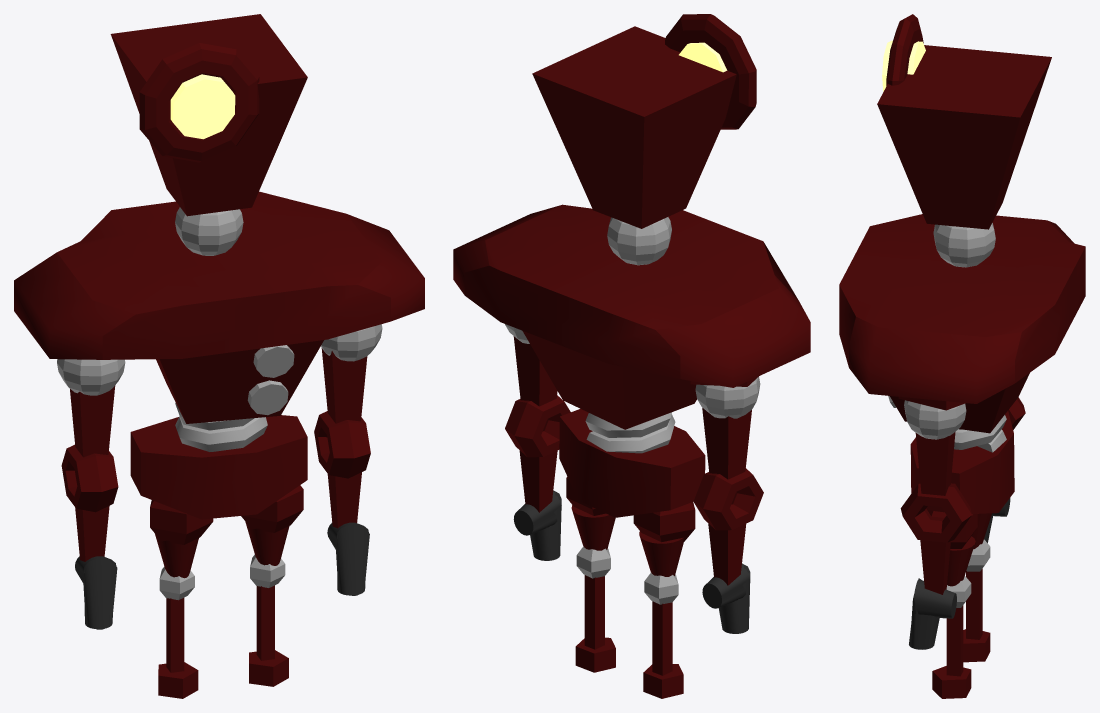
File: Robot.fbx
3 renders of one model, left to right at view 1: azimuth 30°, elevation 25°; view 2: azimuth 150°, elevation 25°; view 3: azimuth 270°, elevation 25°, orthographic. The views are drawn at different scales.
Visible parts, largest first — view 1: pCube4, pCube6, pCube1, pTorus5, pCube3, pCylinder31, pTorus3, pTorus4, pCube9, pSphere7, pCube7, pHelix1 (+18 smaller); view 2: pCube4, pCube6, pCube1, pCube3, pTorus5, pTorus3, pTorus4, pCube7, pHelix1, pSphere7, pSphere5, pCube9 (+16 smaller); view 3: pCube4, pCube6, pCube1, pTorus4, pSphere7, pCube9, pCube3, pSphere6, pTorus5, pCube10, pCylinder29, pCube5 (+12 smaller).
Part boxes in pixels (left/top/right/bottom): pCube4: left=14, top=191, right=424, bottom=359; pCube6: left=110, top=14, right=307, bottom=216; pCube1: left=130, top=415, right=307, bottom=519; pTorus5: left=139, top=43, right=259, bottom=162; pCube3: left=156, top=340, right=323, bottom=423; pCylinder31: left=170, top=74, right=235, bottom=139; pTorus3: left=61, top=444, right=118, bottom=512; pTorus4: left=314, top=411, right=370, bottom=478; pCube9: left=321, top=348, right=367, bottom=423; pSphere7: left=175, top=207, right=243, bottom=255; pCube7: left=70, top=385, right=115, bottom=457; pHelix1: left=175, top=402, right=267, bottom=451; pCube4: left=453, top=204, right=810, bottom=387; pCube6: left=532, top=26, right=736, bottom=228; pCube1: left=559, top=409, right=705, bottom=517; pCube3: left=522, top=331, right=696, bottom=429; pTorus5: left=665, top=14, right=756, bottom=129; pTorus3: left=693, top=468, right=763, bottom=530; pTorus4: left=505, top=395, right=570, bottom=457; pCube7: left=702, top=408, right=751, bottom=479; pHelix1: left=585, top=412, right=675, bottom=453; pSphere7: left=607, top=217, right=671, bottom=265; pSphere5: left=695, top=377, right=760, bottom=418; pCube9: left=513, top=336, right=557, bottom=406; pCube4: left=839, top=214, right=1085, bottom=403; pCube6: left=877, top=45, right=1051, bottom=229; pCube1: left=910, top=411, right=1014, bottom=513; pTorus4: left=900, top=483, right=971, bottom=542; pSphere7: left=933, top=223, right=995, bottom=267; pCube9: left=915, top=432, right=955, bottom=507; pCube3: left=890, top=373, right=1029, bottom=433; pSphere6: left=904, top=400, right=966, bottom=439; pTorus5: left=886, top=14, right=923, bottom=85; pCube10: left=920, top=540, right=950, bottom=594; pCylinder29: left=914, top=579, right=956, bottom=618; pCube5: left=946, top=605, right=963, bottom=676.
Bounding box in the file's own units: 8.52 × 15.52 × 5.49.
